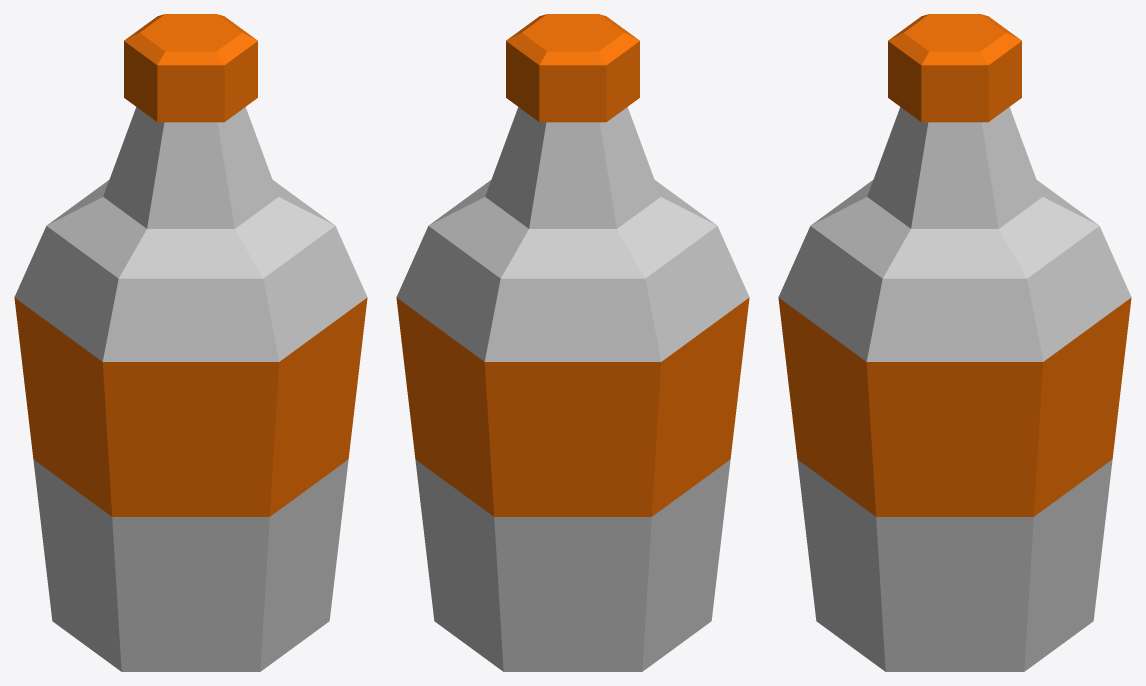
File: Bottle2.fbx
The picture shows the model from 3 angles, left to right: view 1: azimuth 30°, elevation 25°; view 2: azimuth 150°, elevation 25°; view 3: azimuth 270°, elevation 25°; orthographic projection.
Visible parts, largest first — view 1: Bottle2; view 2: Bottle2; view 3: Bottle2.
Boxes of the visible parts, x1=… form: Bottle2: x1=14, y1=14, x2=367, y2=671; Bottle2: x1=396, y1=14, x2=749, y2=671; Bottle2: x1=778, y1=14, x2=1131, y2=671.
Size of the model in its own units: 0.1836 by 0.3899 by 0.2121.
